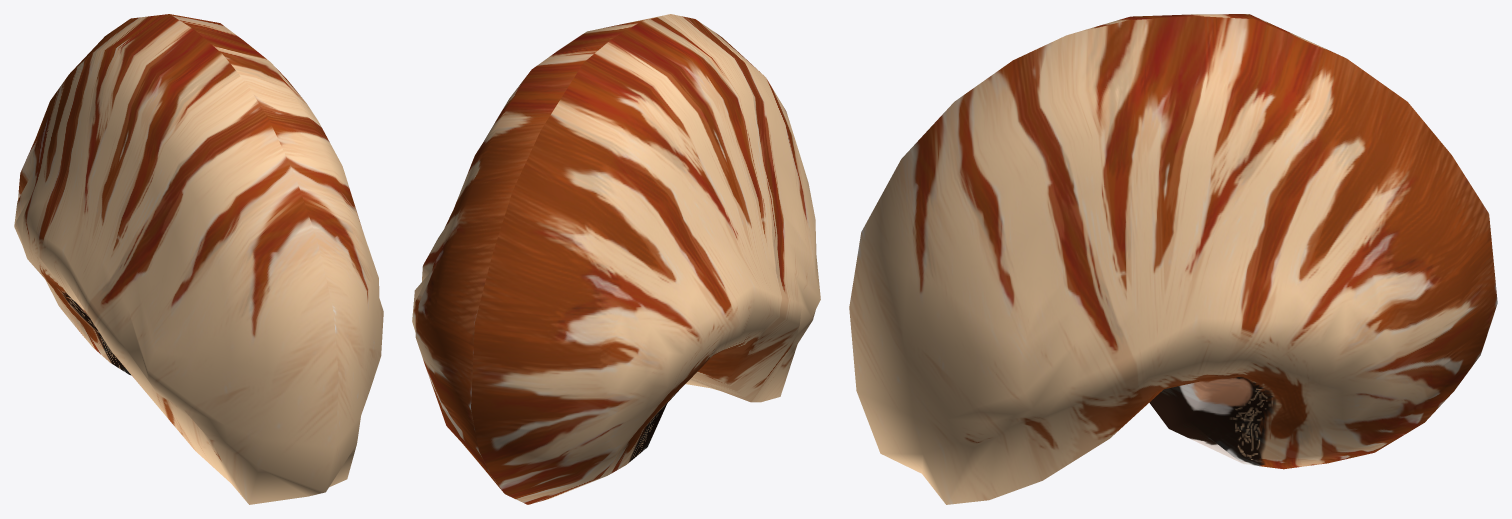
Rendered from nautilus_seashell.fbx.
The picture shows the model from 3 angles, left to right: view 1: azimuth 30°, elevation 25°; view 2: azimuth 150°, elevation 25°; view 3: azimuth 270°, elevation 25°; orthographic projection. The views are drawn at different scales.
Visible parts, largest first — view 1: pPlane1; view 2: pPlane1; view 3: pPlane1.
Part boxes in pixels (<box>): pPlane1: <box>14,14,383,504</box>; pPlane1: <box>412,14,820,504</box>; pPlane1: <box>849,14,1497,504</box>.
Bounding box in the file's own units: 0.8677 × 1.19 × 1.52.
1 material, 1 textured.
